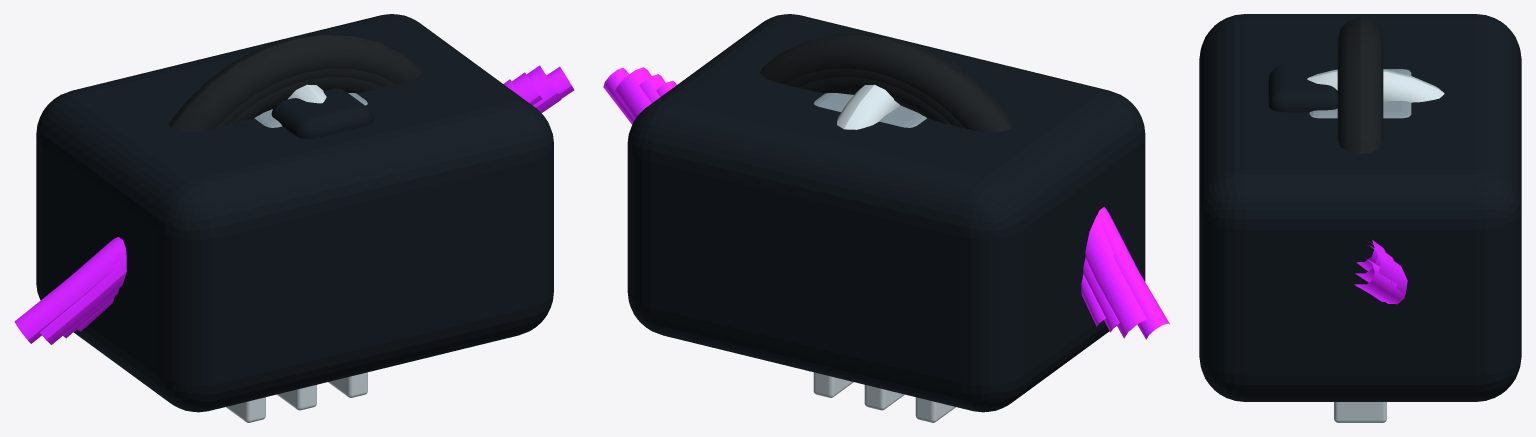
The model's file is electrical_29.glb.
3 renders of one model, left to right at view 1: azimuth 30°, elevation 25°; view 2: azimuth 150°, elevation 25°; view 3: azimuth 270°, elevation 25°, orthographic.
Parts seen in each view (by area): view 1: asset_mesh__electrical_1385__reference_body, asset_mesh__electrical_1376__service_element, asset_mesh__electrical_1383__current_path, asset_mesh__electrical_1387__electrical_connector, asset_mesh__electrical_1382__current_path, asset_mesh__electrical_1374__service_element, asset_mesh__electrical_1375__service_element, asset_mesh__electrical_1381__current_path, asset_mesh__electrical_1373__blade_1, asset_mesh__electrical_1373__blade_2, asset_mesh__electrical_1373__blade_3; view 2: asset_mesh__electrical_1385__reference_body, asset_mesh__electrical_1376__service_element, asset_mesh__electrical_1382__current_path, asset_mesh__electrical_1383__current_path, asset_mesh__electrical_1374__service_element, asset_mesh__electrical_1372__functional_ring, asset_mesh__electrical_1375__service_element, asset_mesh__electrical_1380__sensor_body, asset_mesh__electrical_1381__current_path, asset_mesh__electrical_1389__current_path, asset_mesh__electrical_1373__blade_1, asset_mesh__electrical_1373__blade_2 (+1 smaller); view 3: asset_mesh__electrical_1385__reference_body, asset_mesh__electrical_1376__service_element, asset_mesh__electrical_1387__electrical_connector, asset_mesh__electrical_1372__functional_ring, asset_mesh__electrical_1373__blade_3, asset_mesh__electrical_1380__sensor_body, asset_mesh__electrical_1383__current_path, asset_mesh__electrical_1382__current_path.
Boxes of the visible parts, left/top/right/bottom form: asset_mesh__electrical_1385__reference_body: left=36, top=14, right=553, bottom=412; asset_mesh__electrical_1376__service_element: left=168, top=33, right=421, bottom=132; asset_mesh__electrical_1383__current_path: left=14, top=66, right=574, bottom=343; asset_mesh__electrical_1387__electrical_connector: left=271, top=88, right=373, bottom=138; asset_mesh__electrical_1382__current_path: left=40, top=65, right=561, bottom=344; asset_mesh__electrical_1374__service_element: left=229, top=77, right=382, bottom=124; asset_mesh__electrical_1375__service_element: left=216, top=68, right=395, bottom=128; asset_mesh__electrical_1381__current_path: left=63, top=72, right=542, bottom=338; asset_mesh__electrical_1373__blade_1: left=226, top=397, right=265, bottom=422; asset_mesh__electrical_1373__blade_2: left=277, top=385, right=316, bottom=410; asset_mesh__electrical_1373__blade_3: left=328, top=372, right=367, bottom=397; asset_mesh__electrical_1385__reference_body: left=627, top=14, right=1145, bottom=412; asset_mesh__electrical_1376__service_element: left=760, top=33, right=1012, bottom=132; asset_mesh__electrical_1382__current_path: left=615, top=67, right=1146, bottom=338; asset_mesh__electrical_1383__current_path: left=603, top=68, right=1169, bottom=339; asset_mesh__electrical_1374__service_element: left=799, top=77, right=951, bottom=124; asset_mesh__electrical_1372__functional_ring: left=837, top=84, right=900, bottom=129; asset_mesh__electrical_1375__service_element: left=785, top=68, right=965, bottom=128; asset_mesh__electrical_1380__sensor_body: left=813, top=93, right=926, bottom=127; asset_mesh__electrical_1381__current_path: left=639, top=74, right=1119, bottom=332; asset_mesh__electrical_1389__current_path: left=656, top=80, right=1105, bottom=326; asset_mesh__electrical_1373__blade_1: left=915, top=397, right=955, bottom=422; asset_mesh__electrical_1373__blade_2: left=864, top=385, right=904, bottom=410; asset_mesh__electrical_1385__reference_body: left=1199, top=14, right=1521, bottom=401; asset_mesh__electrical_1376__service_element: left=1337, top=17, right=1383, bottom=153; asset_mesh__electrical_1387__electrical_connector: left=1268, top=65, right=1337, bottom=112; asset_mesh__electrical_1372__functional_ring: left=1307, top=69, right=1444, bottom=102; asset_mesh__electrical_1373__blade_3: left=1334, top=402, right=1386, bottom=422; asset_mesh__electrical_1380__sensor_body: left=1309, top=69, right=1411, bottom=118; asset_mesh__electrical_1383__current_path: left=1356, top=259, right=1404, bottom=304; asset_mesh__electrical_1382__current_path: left=1354, top=245, right=1407, bottom=301.
Bounding box in the file's own units: 1.54 × 0.9517 × 0.7728.
